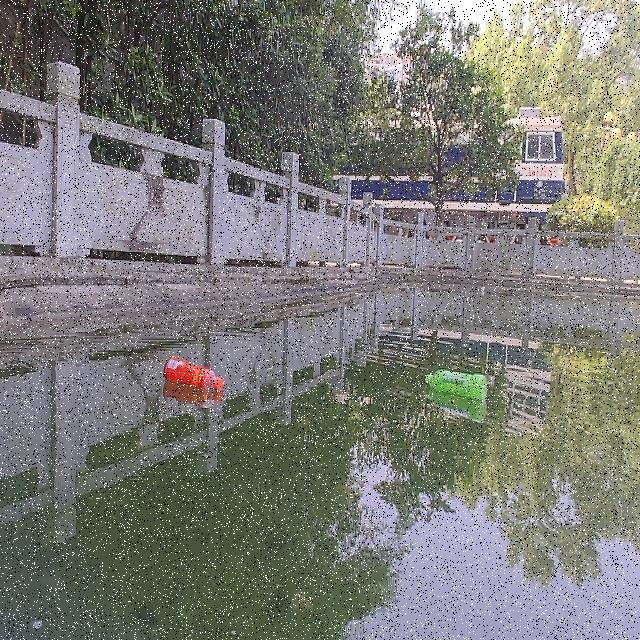bottle: (161, 354, 225, 390), (422, 365, 488, 399)
